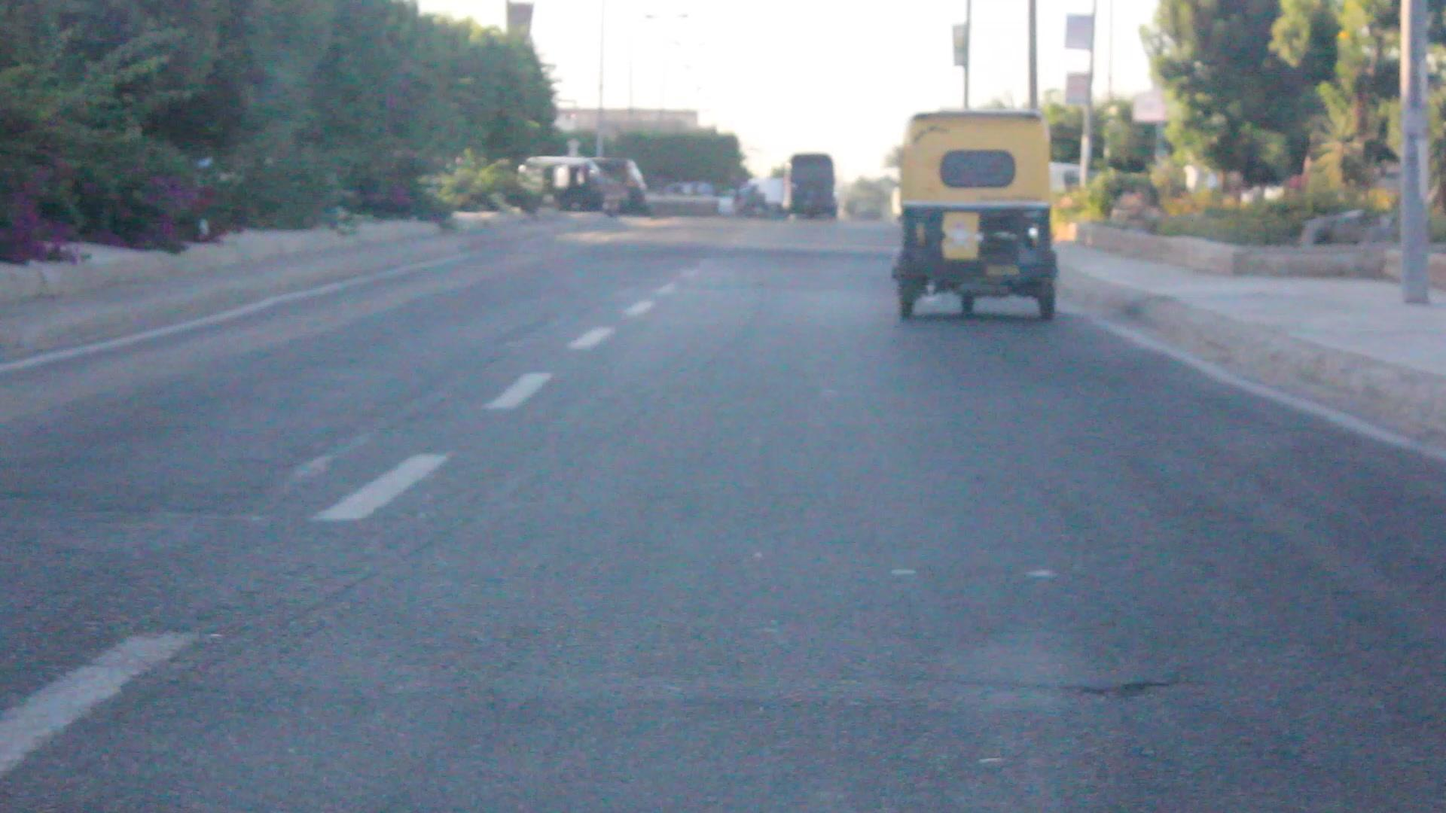Bump: (476, 233, 903, 271)
